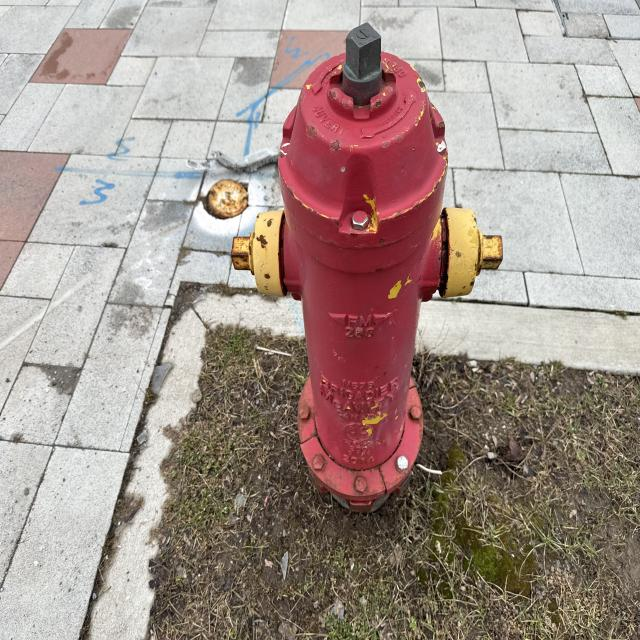Fire hydrant: (230, 21, 503, 514)
